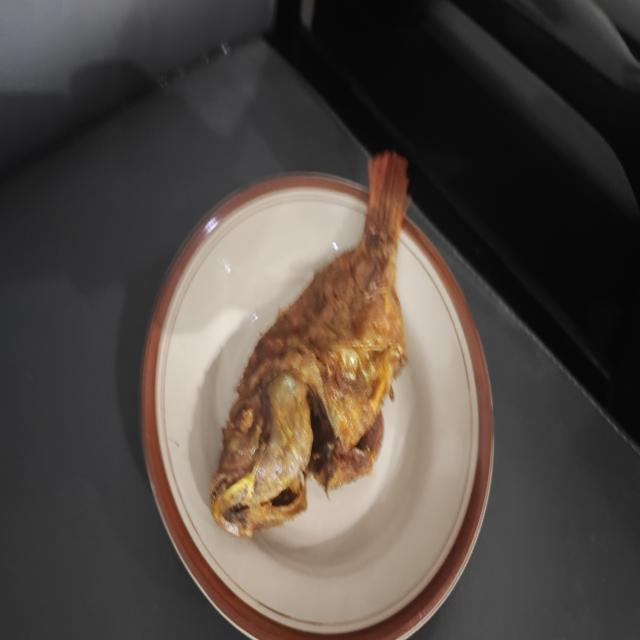ikan_mujair: (210, 152, 408, 536)
